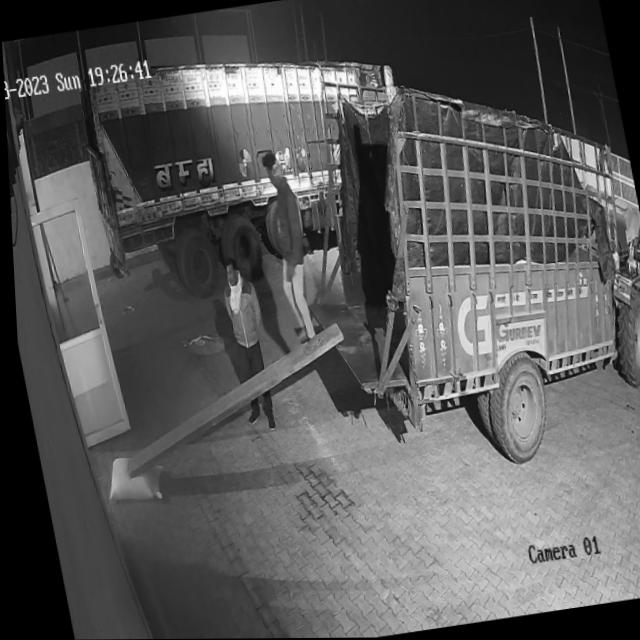sack: (96, 451, 159, 504)
